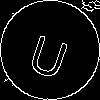U: (25, 25, 75, 81)
